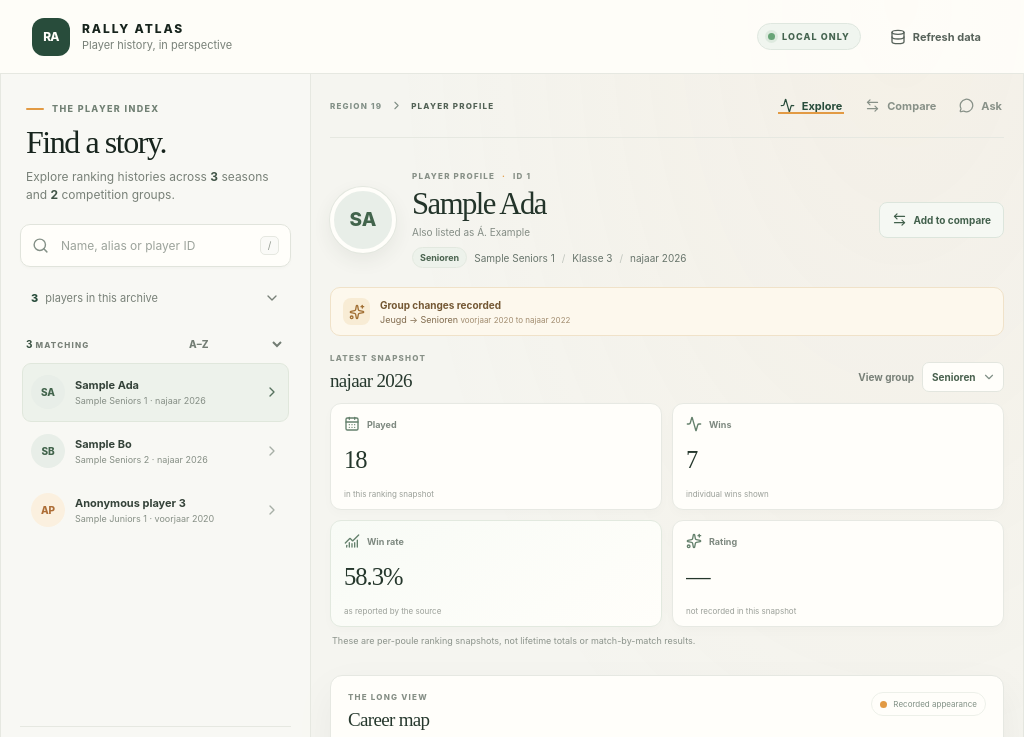
Test case: Rally Atlas › searches aliases and compares players in their shared poule context
The width and height of the screenshot is (1024, 737).
Check: the heading "Sample Ada" is shown, box [412, 187, 546, 221]
Click the button "Add to compare" at (941, 220), box [879, 202, 1004, 238]
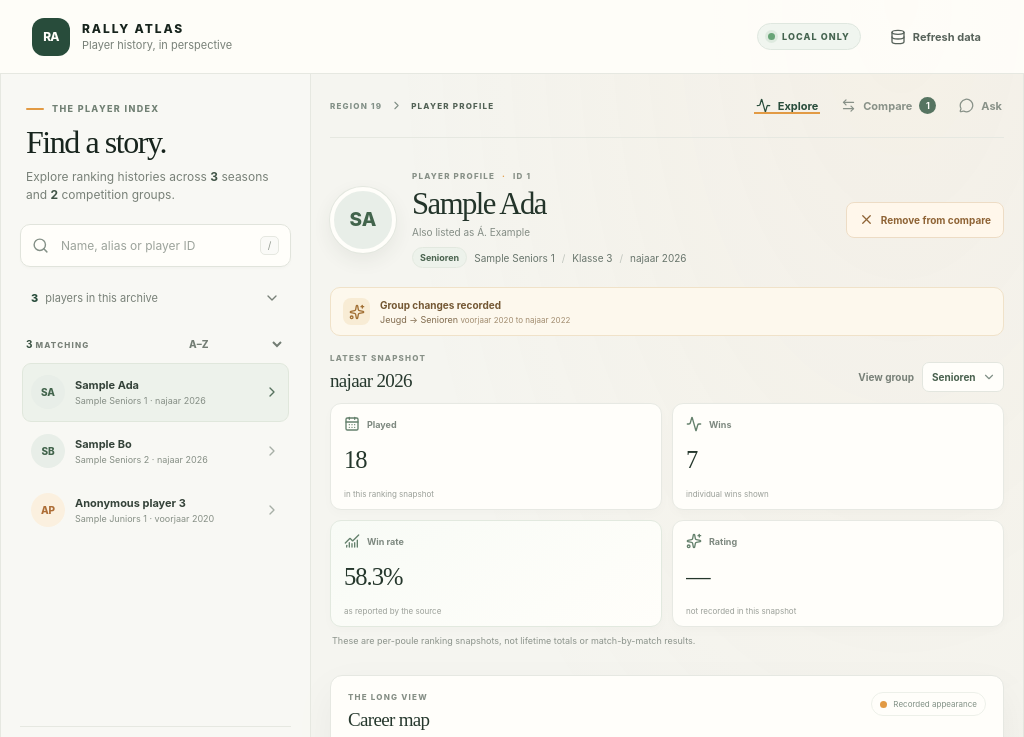
Type "a. example" into the search field named "search by name, alias, or player id" at (154, 245), box [59, 237, 250, 254]
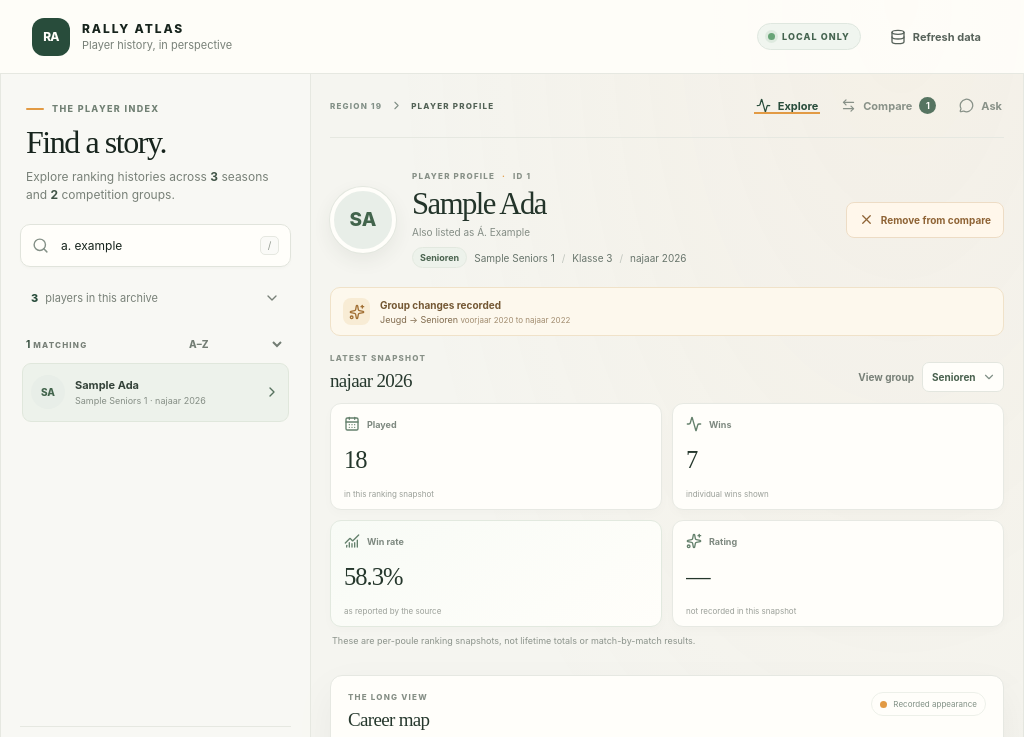
Check: the button "SA Sample Ada Sample Seniors 1 · najaar 2026" is shown, box [22, 363, 289, 422]
Check: the button "Sample Bo" is gone
Clear the search field named "search by name, alias, or player id" at (154, 245), box [59, 237, 250, 254]
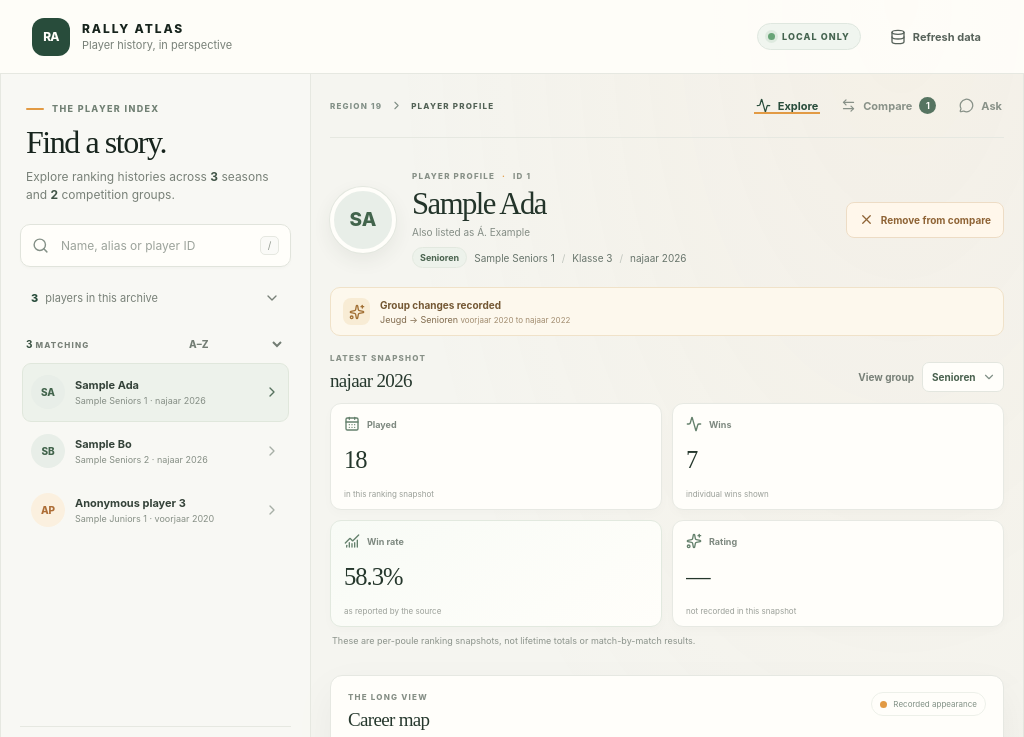
Click the button "SB Sample Bo Sample Seniors 2 · najaar 2026" at (156, 451), box [22, 422, 289, 481]
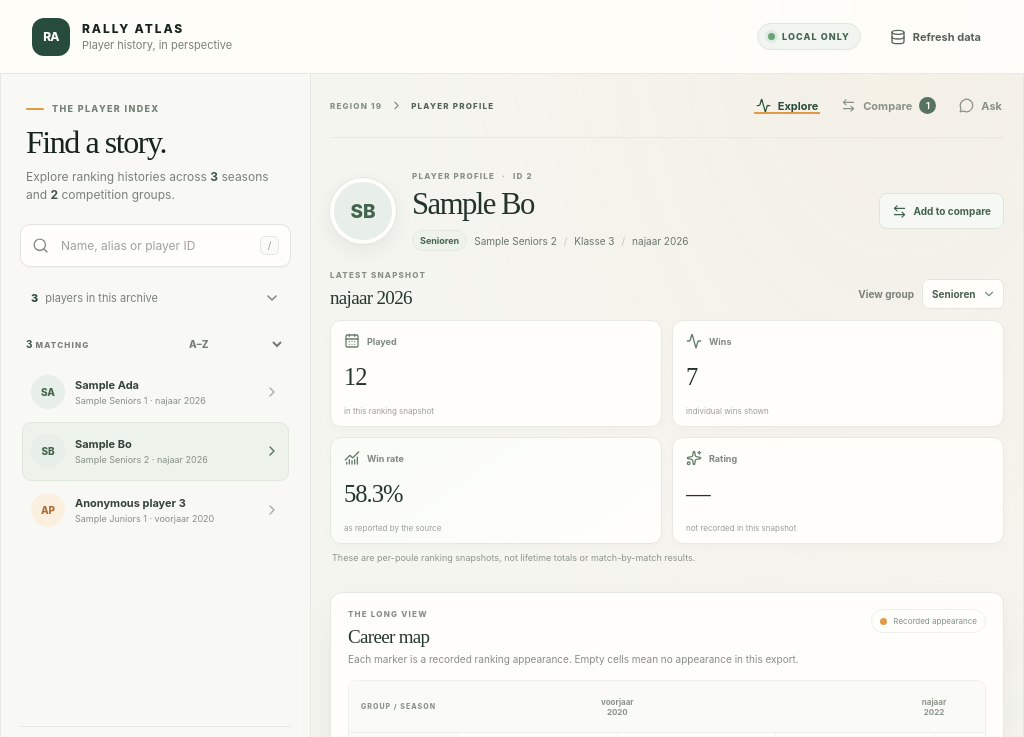
Click the button "Add to compare" at (941, 211), box [879, 193, 1004, 229]
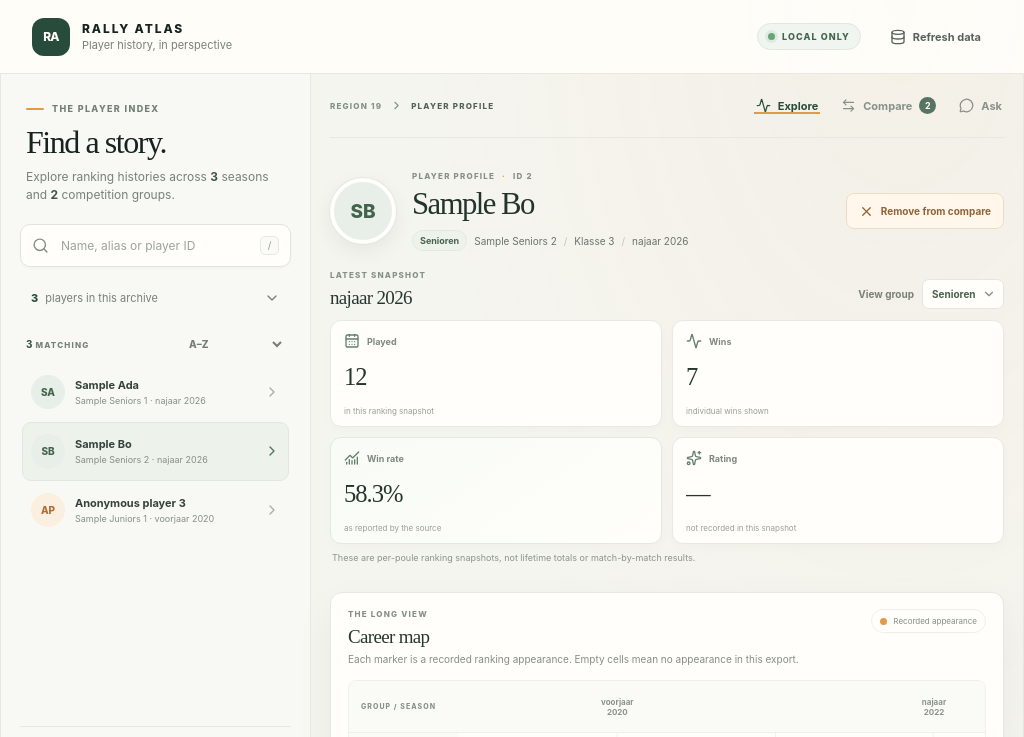
Click the button "Compare 2" at (889, 106), box [839, 97, 938, 114]
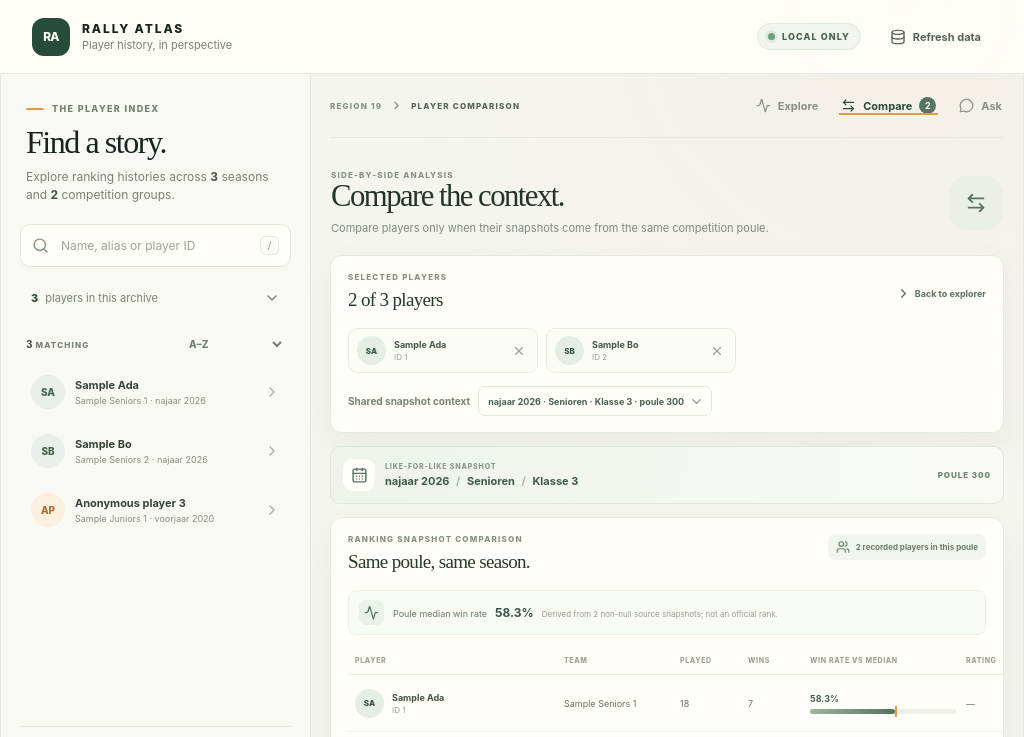
Check: the heading "Same poule, same season." is shown, box [348, 551, 530, 573]
Check: the text "Poule median win rate" is shown, box [393, 608, 487, 619]
Check: the text "not an official rank" is shown, box [598, 609, 778, 619]
